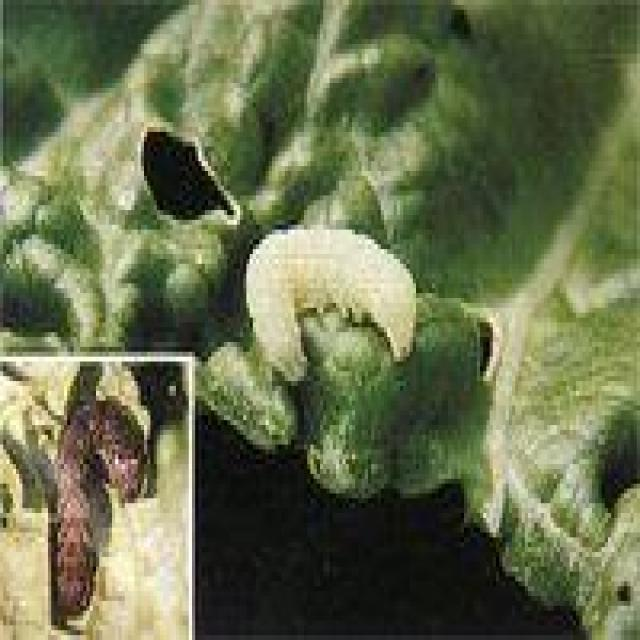BeetArmyWorm-Larva-: (239, 223, 429, 398)
